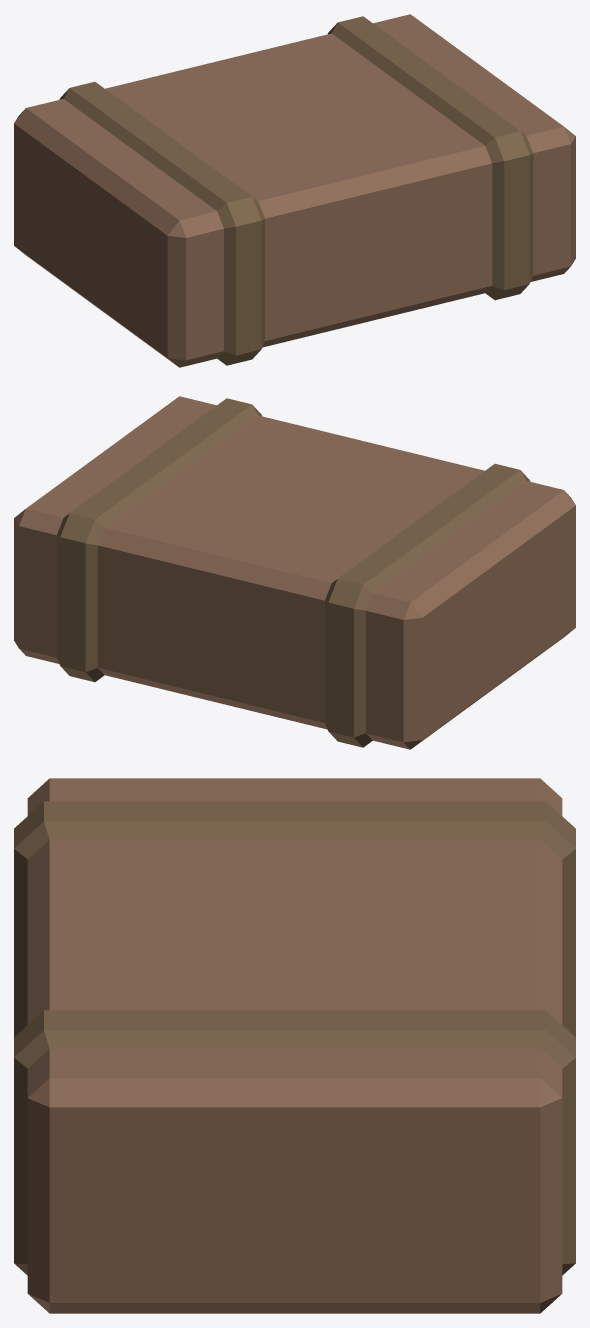
File: LargeCase.fbx
The picture shows the model from 3 angles, top to bottom: view 1: azimuth 30°, elevation 25°; view 2: azimuth 150°, elevation 25°; view 3: azimuth 270°, elevation 25°; orthographic projection. The views are drawn at different scales.
Parts seen in each view (by area): view 1: LargeCase; view 2: LargeCase; view 3: LargeCase.
Part boxes in pixels (x1=…): LargeCase: x1=14, y1=14, x2=575, y2=367; LargeCase: x1=14, y1=396, x2=575, y2=749; LargeCase: x1=14, y1=778, x2=575, y2=1313.
Bounding box in the file's own units: 0.7658 × 0.5713 × 0.2918.
